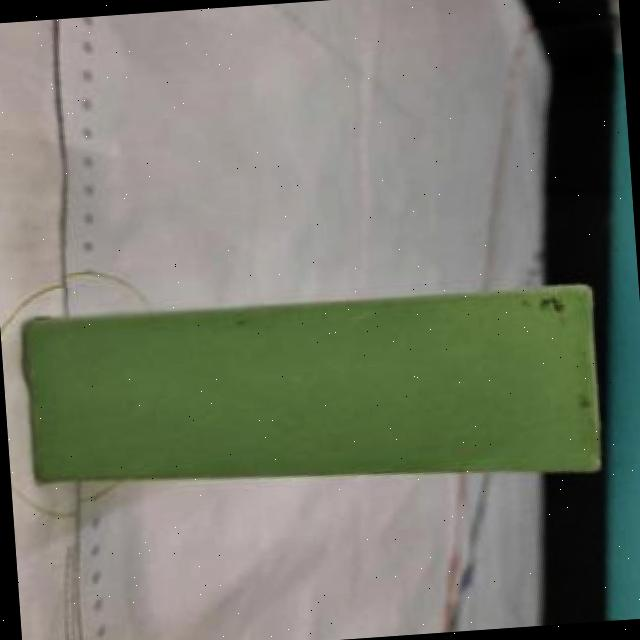greenbox: (19, 273, 604, 492)
